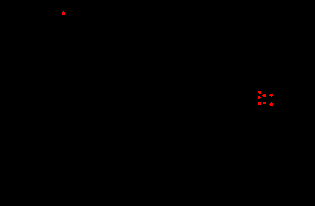Target: (269, 102, 273, 106), (62, 11, 65, 15), (262, 94, 266, 97), (269, 94, 273, 97), (258, 91, 261, 94), (258, 96, 261, 99), (258, 102, 261, 105), (263, 102, 266, 104)
